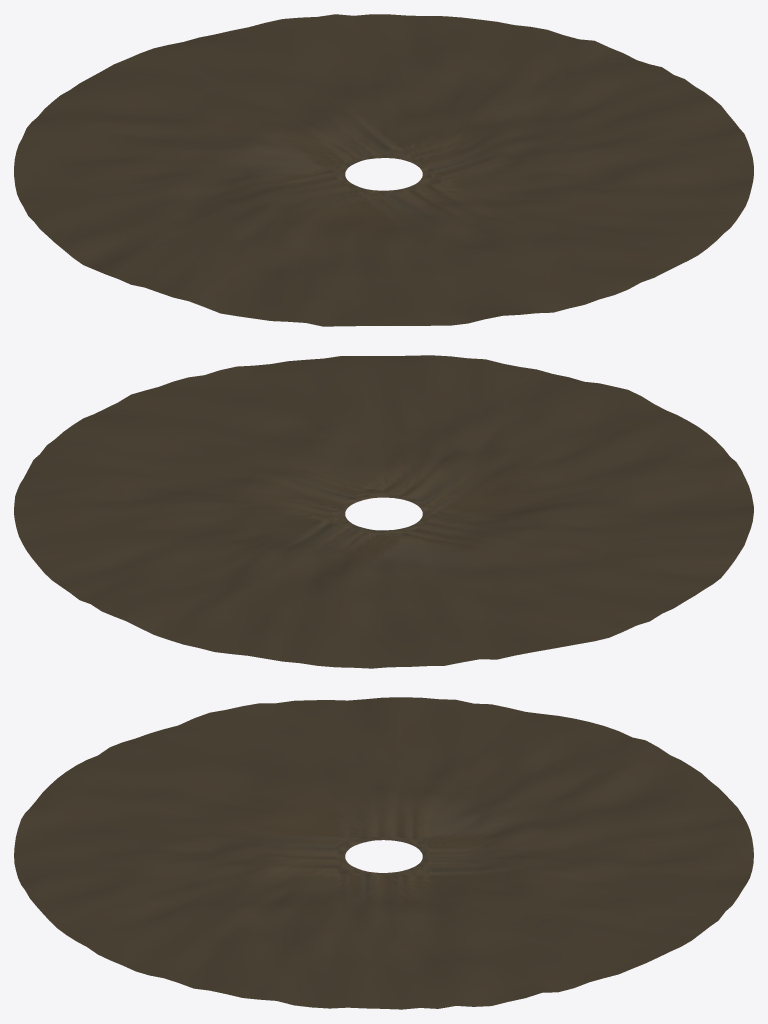
The model's file is hattusa-aslanli-kapi-skirt.glb.
3 views of the same model, one above another, from view 1: azimuth 30°, elevation 25°; view 2: azimuth 150°, elevation 25°; view 3: azimuth 270°, elevation 25° (orthographic).
Parts seen in each view (by area): view 1: hattusa-aslanli-kapi-skirt; view 2: hattusa-aslanli-kapi-skirt; view 3: hattusa-aslanli-kapi-skirt.
Boxes of the visible parts, x1,y1,x2,y2 form: hattusa-aslanli-kapi-skirt: (14,14,753,326); hattusa-aslanli-kapi-skirt: (14,355,753,668); hattusa-aslanli-kapi-skirt: (14,697,753,1009).
Bounding box in the file's own units: 8400 × 92.83 × 8400.
